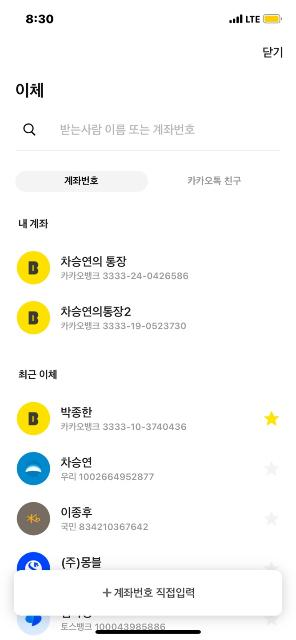EditText: (16, 118, 284, 152)
Icon: (264, 460, 280, 478), (265, 411, 281, 427), (264, 512, 280, 526), (22, 122, 36, 136)
Image: (16, 250, 50, 286), (17, 300, 52, 334), (17, 401, 52, 435), (17, 452, 52, 484), (17, 502, 49, 536)
List: (0, 392, 296, 572), (0, 232, 296, 358)
Text: (60, 407, 188, 431), (62, 256, 188, 280), (61, 306, 187, 330), (60, 506, 150, 532), (62, 456, 154, 479), (60, 124, 198, 136), (61, 621, 167, 635), (102, 587, 196, 599), (187, 176, 242, 186), (62, 556, 101, 570), (18, 368, 58, 379), (17, 82, 44, 98), (64, 174, 98, 186), (20, 218, 49, 228), (262, 46, 282, 58)
TextButton: (13, 571, 283, 617), (14, 170, 148, 192)
Toolbar: (0, 36, 296, 72)
UpperTaskBar: (0, 0, 296, 36)
